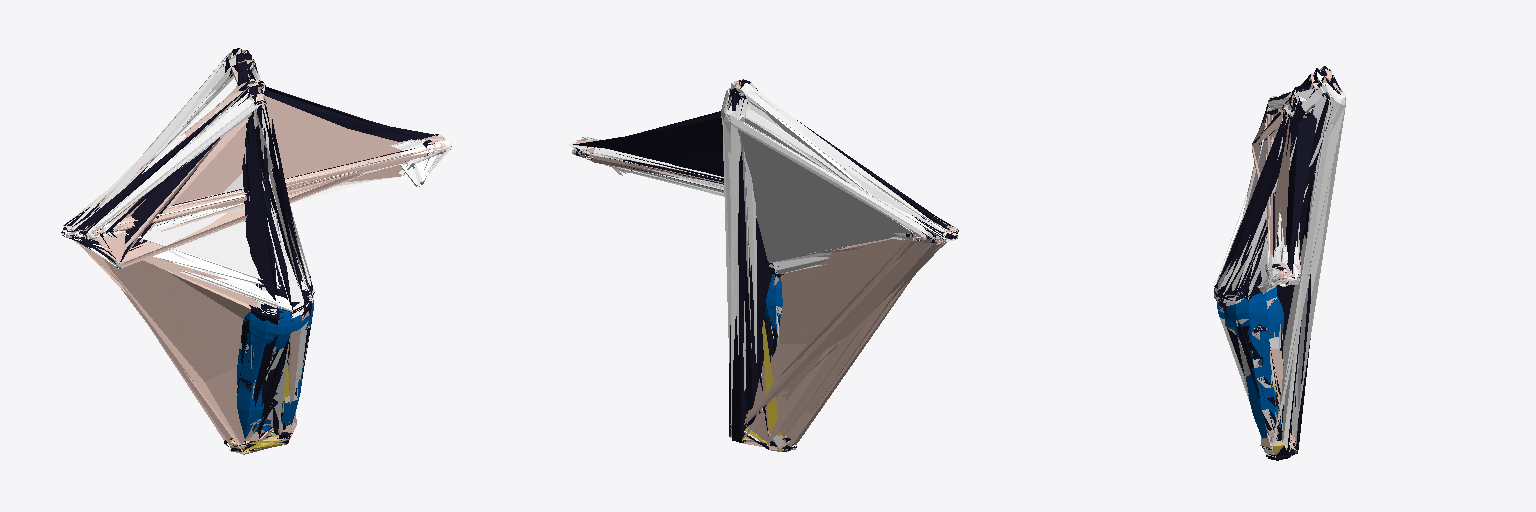
3 views of the same model, side by side, from view 1: azimuth 30°, elevation 25°; view 2: azimuth 150°, elevation 25°; view 3: azimuth 270°, elevation 25° (orthographic).
Parts seen in each view (by area): view 1: Goof_Head_Ambi, Hands_Belt_hat, Top_Ambi, Goofy_Shoes, Pants; view 2: Hands_Belt_hat, Top_Ambi, Goof_Head_Ambi, Goofy_Shoes; view 3: Goof_Head_Ambi, Goofy_Shoes, Hands_Belt_hat, Pants, Top_Ambi, Waist_Coat_denim.
Part boxes in pixels (x1,y1,x2,y2): Goof_Head_Ambi: (61,49,445,454); Hands_Belt_hat: (61,48,451,452); Top_Ambi: (63,50,314,453); Goofy_Shoes: (76,48,312,451); Pants: (237,300,313,437); Hands_Belt_hat: (568,83,958,451); Top_Ambi: (721,80,949,451); Goof_Head_Ambi: (573,79,958,451); Goofy_Shoes: (727,79,943,451); Goof_Head_Ambi: (1214,69,1345,460); Goofy_Shoes: (1214,66,1339,458); Hands_Belt_hat: (1214,66,1345,453); Pants: (1217,287,1283,438); Top_Ambi: (1214,69,1345,457); Waist_Coat_denim: (1227,325,1281,440).
Bounding box in the file's own units: 0.0829 × 0.0785 × 0.0248.
7 materials, 5 textured.